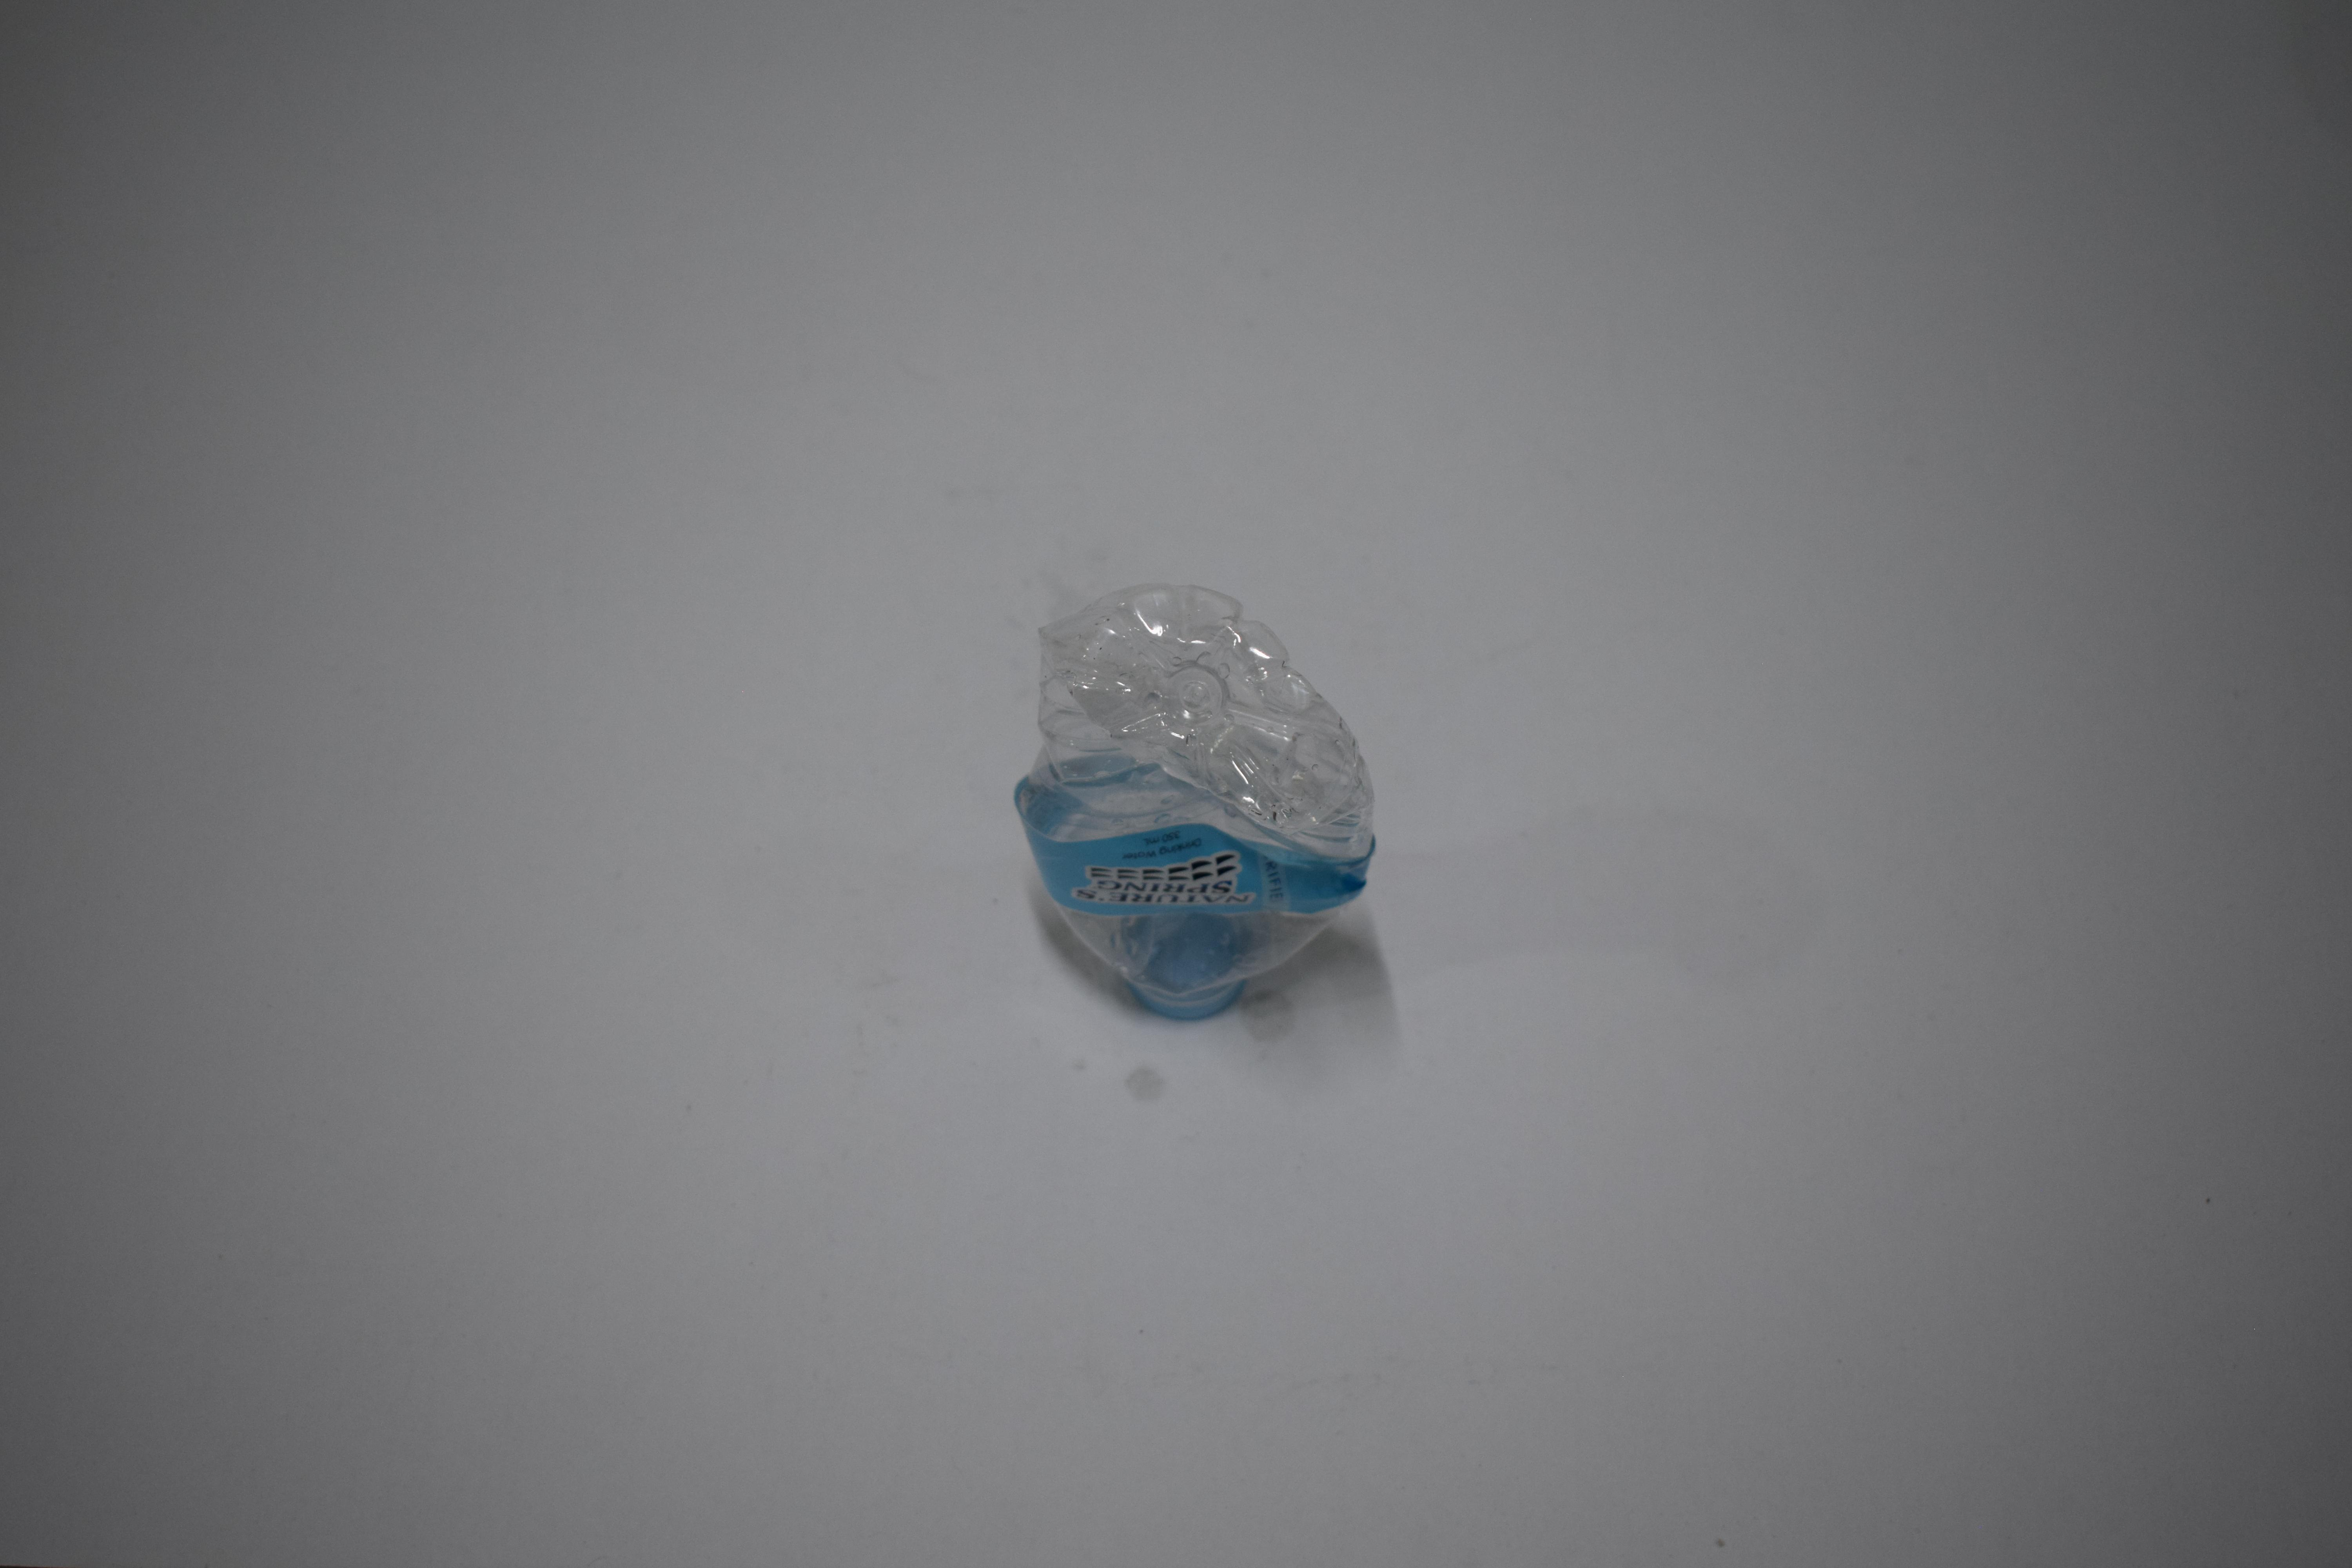bottle: (0, 0, 208, 250)
